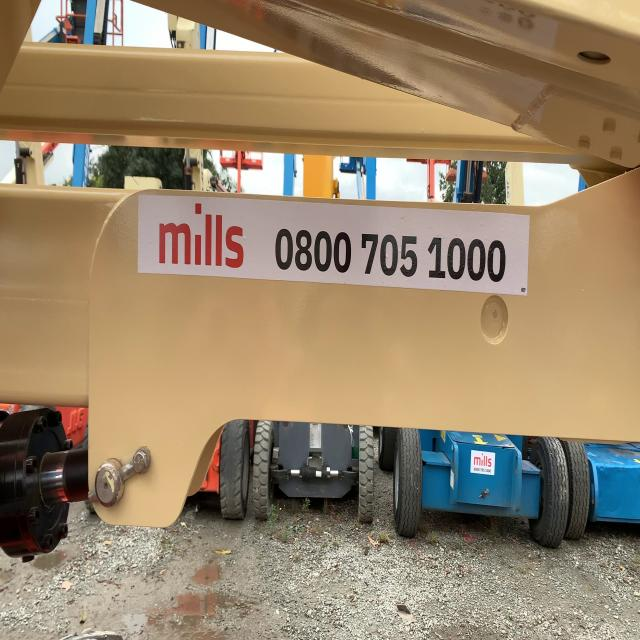Adesivos: (132, 185, 535, 299)
